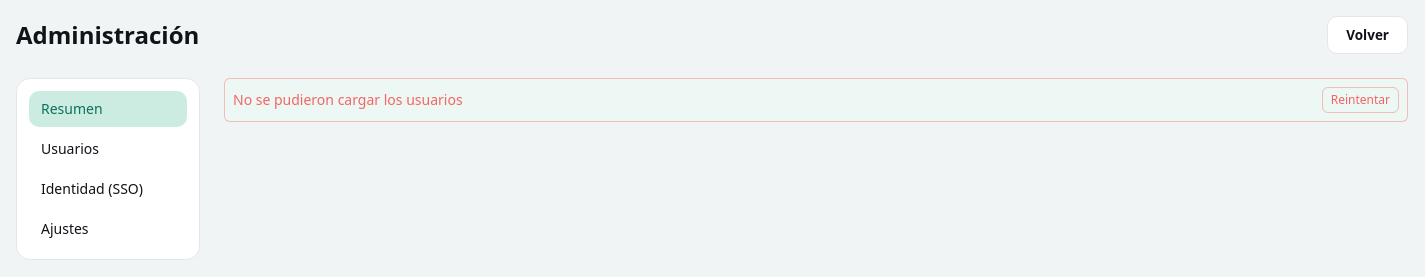
Scenario: AdminPage console shell › shows a retry instead of misleading zeros when the overview cannot load
Expected: the text "No se pudieron cargar los usuarios" is shown, [233,90,463,110]
Expected: the text "Activos" is not shown
Click the button "Reintentar": [1360, 100] box [1322,87,1399,113]
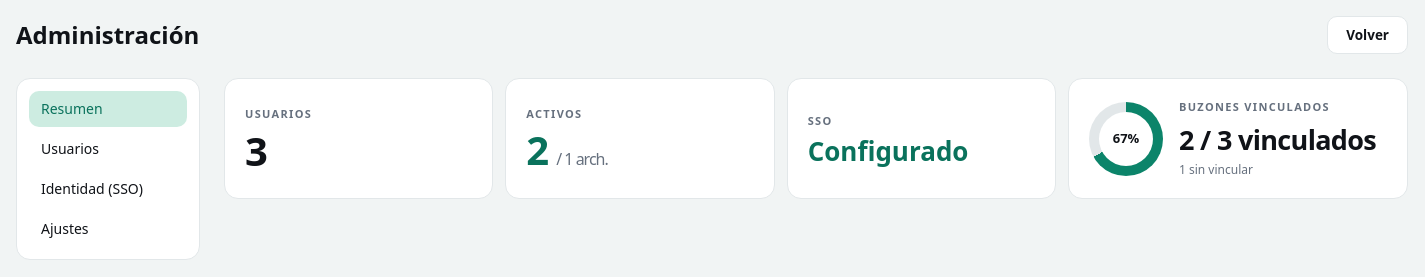
Expected: the text "3" is shown, [245,123,267,178]
